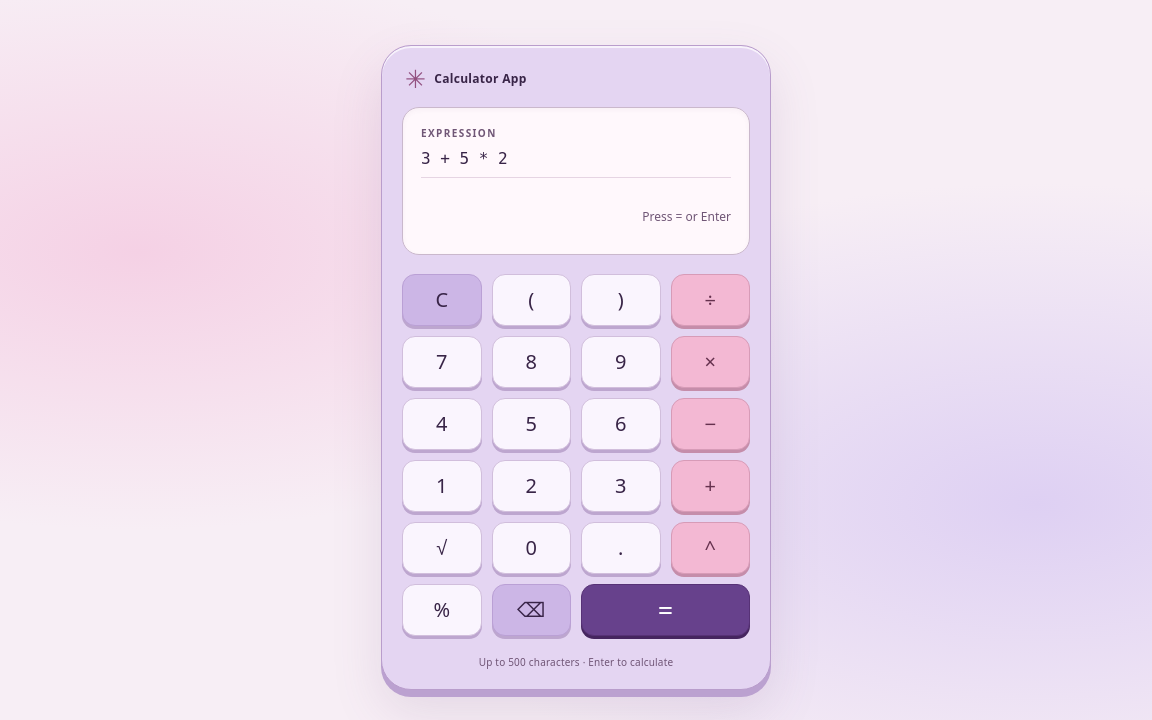
Test: App › submits an expression and renders the result
Click the button "=" at (666, 610), box [581,584,750,636]
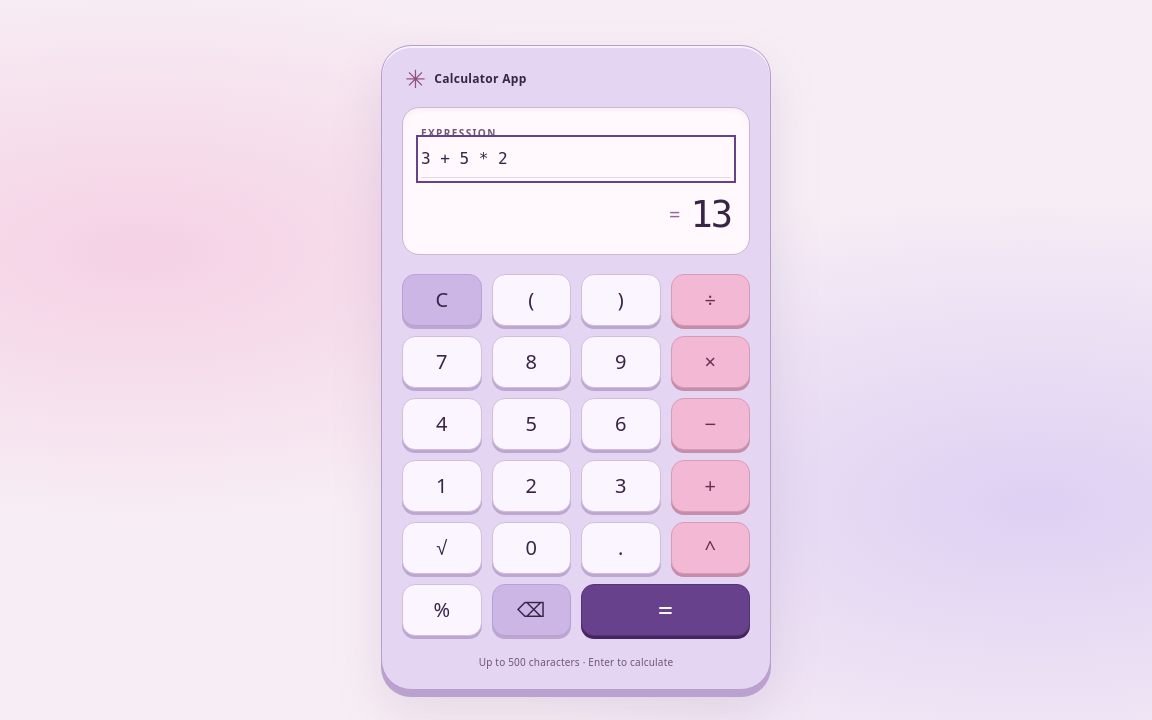
Expected: the text "13" is shown, [690,192,731,236]
